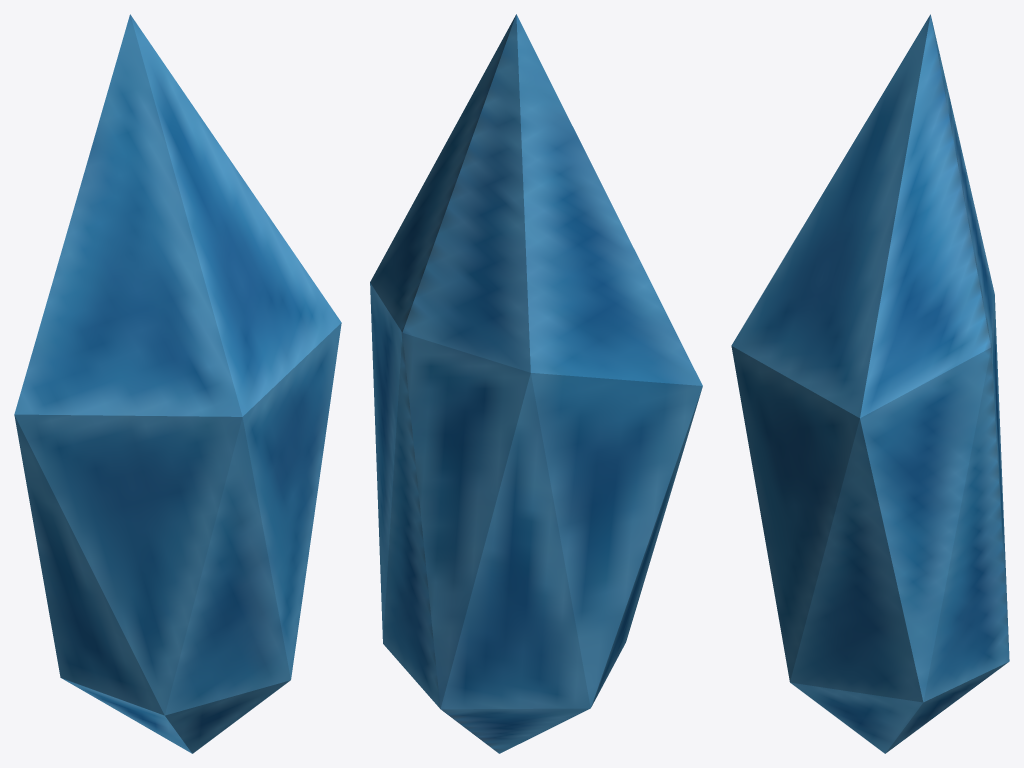
The model's file is crystal blue.glb.
3 renders of one model, left to right at view 1: azimuth 30°, elevation 25°; view 2: azimuth 150°, elevation 25°; view 3: azimuth 270°, elevation 25°, orthographic. The views are drawn at different scales.
Parts seen in each view (by area): view 1: staff.001; view 2: staff.001; view 3: staff.001.
Boxes of the visible parts, x1,y1,x2,y2 form: staff.001: (14, 14, 341, 753); staff.001: (370, 14, 702, 753); staff.001: (731, 14, 1009, 753).
Bounding box in the file's own units: 0.1779 × 0.3862 × 0.135.
Materials: 1 (1 with a texture image).
